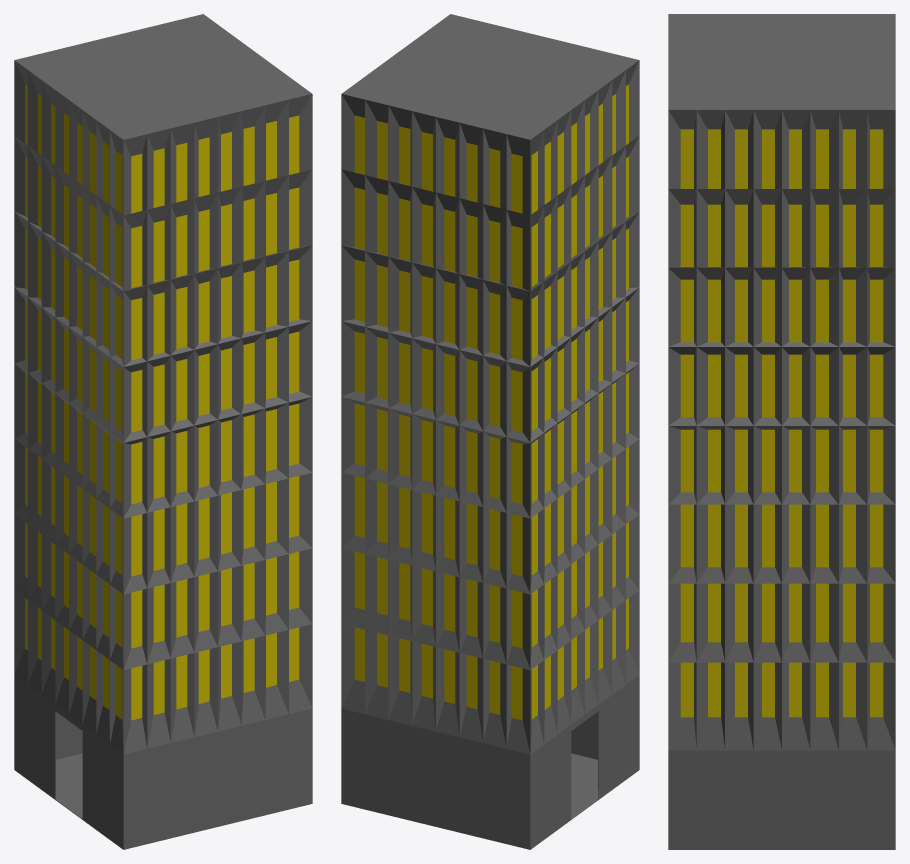
File: Building.fbx
3 renders of one model, left to right at view 1: azimuth 30°, elevation 25°; view 2: azimuth 150°, elevation 25°; view 3: azimuth 270°, elevation 25°, orthographic. The views are drawn at different scales.
Visible parts, largest first — view 1: Building; view 2: Building; view 3: Building.
Boxes of the visible parts, x1,y1,x2,y2 form: Building: (14,14,312,849); Building: (341,14,639,849); Building: (668,14,895,849).
Size of the model in its own units: 200 by 718 by 200.
